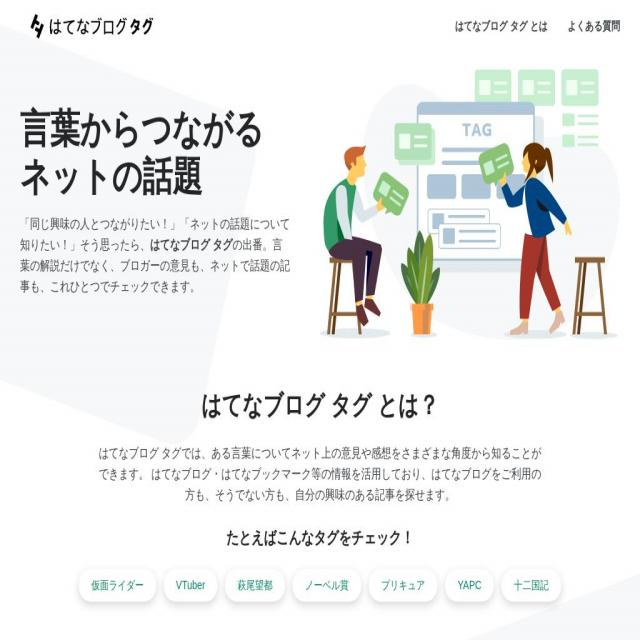navigation-links: (72, 570, 564, 603)
